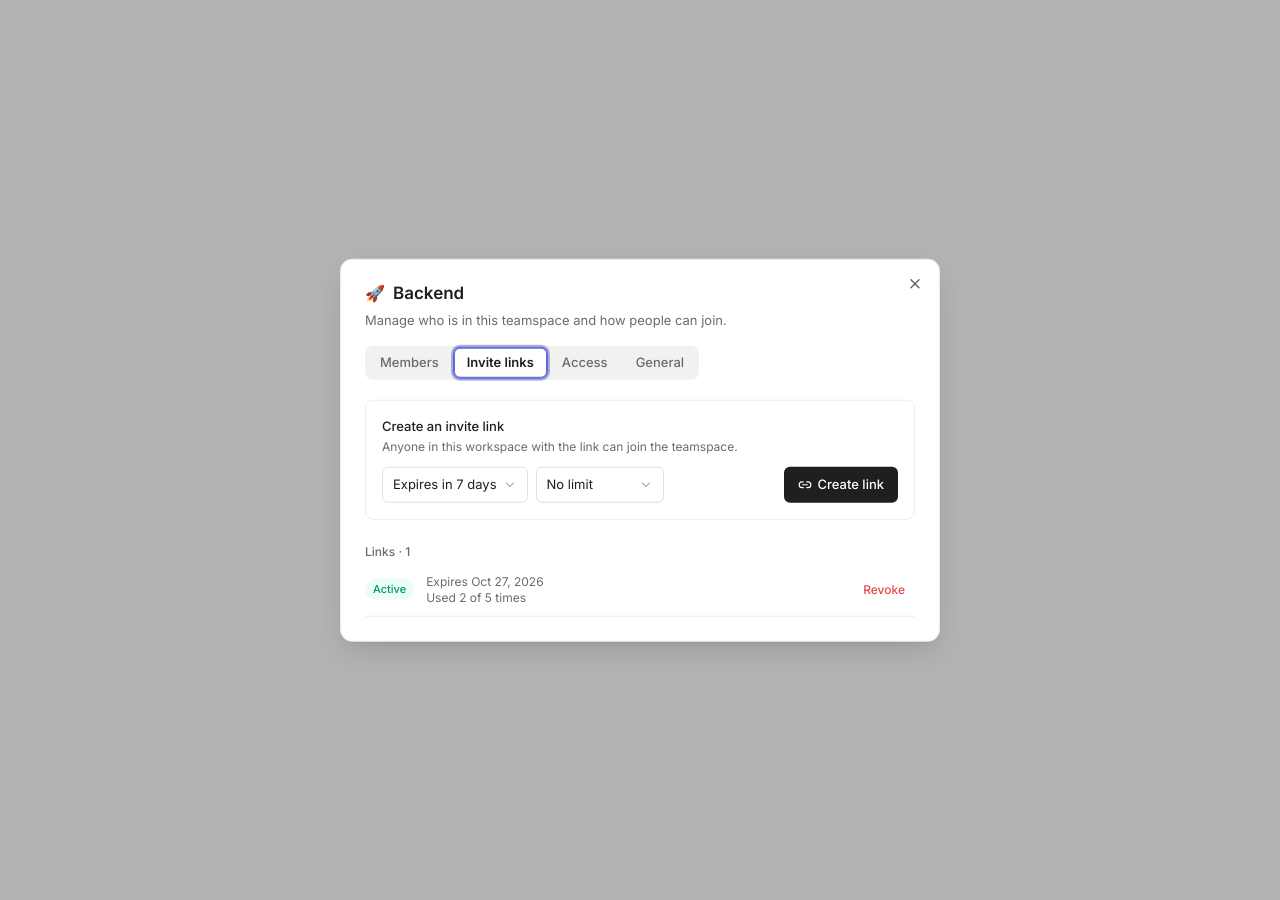
Test case: TeamspaceSettingsDialog › creates an invite link and shows it once
Expected: the text "Used 2 of 5 times" is shown, 426,589 -> 526,604
Click the button "Create link": (841, 484) 784,466 -> 898,502
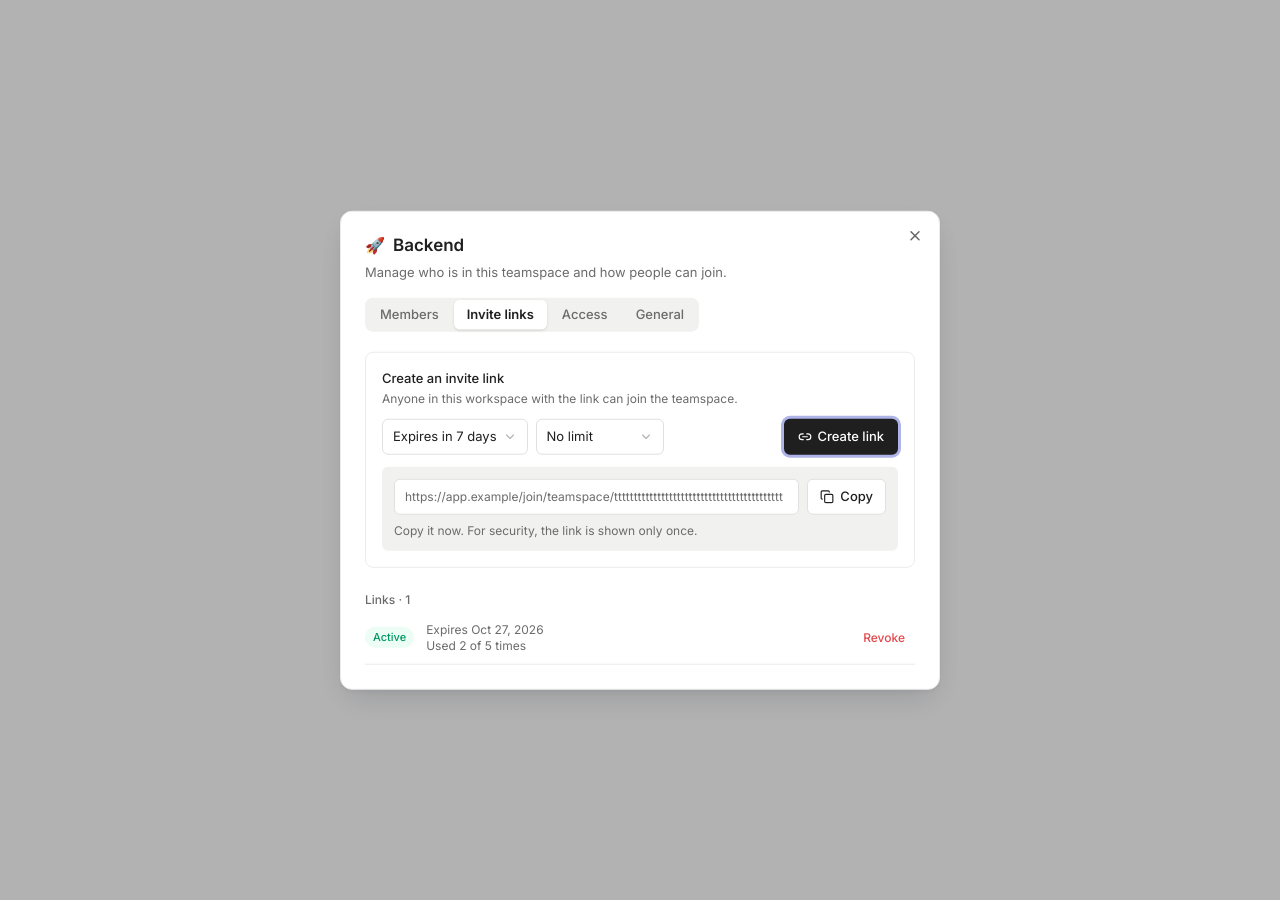
Expected: the text "Copy it now. For security, the link is shown only once." is shown, 394,522 -> 698,537
